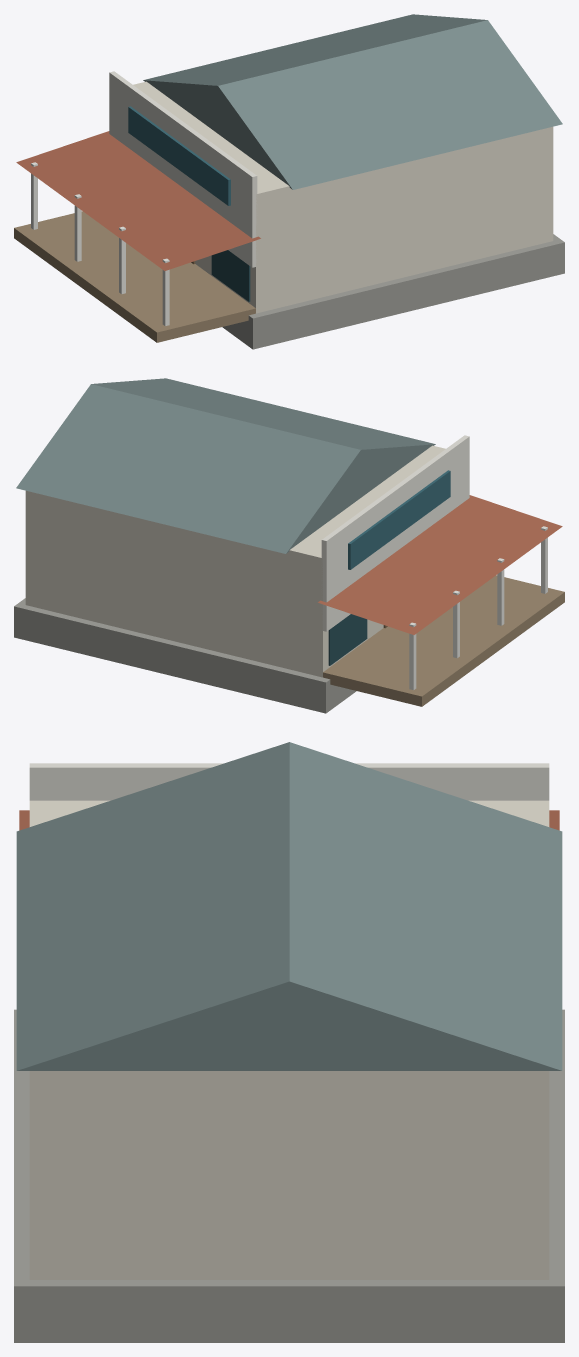
File: village-store.glb
3 renders of one model, top to bottom at view 1: azimuth 30°, elevation 25°; view 2: azimuth 150°, elevation 25°; view 3: azimuth 270°, elevation 25°, orthographic. The views are drawn at different scales.
Visible parts, largest first — view 1: village-store: Palm Bay roof, village-store: Palm Bay stucco, village-store: Palm Bay coral, village-store: Palm Bay deck, village-store: Palm Bay concrete, village-store: Palm Bay trim, village-store: Palm Bay sign, village-store: Palm Bay white, village-store: Palm Bay glass; view 2: village-store: Palm Bay roof, village-store: Palm Bay stucco, village-store: Palm Bay coral, village-store: Palm Bay deck, village-store: Palm Bay concrete, village-store: Palm Bay trim, village-store: Palm Bay sign, village-store: Palm Bay white, village-store: Palm Bay glass; view 3: village-store: Palm Bay roof, village-store: Palm Bay stucco, village-store: Palm Bay concrete, village-store: Palm Bay trim.
Boxes of the visible parts, box(x1,y1,x2,y2) form: village-store: Palm Bay roof: box(143, 14, 562, 189); village-store: Palm Bay stucco: box(133, 81, 553, 313); village-store: Palm Bay coral: box(16, 131, 260, 270); village-store: Palm Bay deck: box(14, 211, 255, 342); village-store: Palm Bay concrete: box(222, 234, 564, 349); village-store: Palm Bay trim: box(109, 71, 257, 267); village-store: Palm Bay sign: box(128, 106, 230, 205); village-store: Palm Bay white: box(31, 162, 169, 326); village-store: Palm Bay glass: box(211, 250, 250, 301); village-store: Palm Bay roof: box(16, 378, 435, 553); village-store: Palm Bay stucco: box(25, 445, 445, 677); village-store: Palm Bay coral: box(318, 495, 562, 634); village-store: Palm Bay deck: box(323, 575, 564, 706); village-store: Palm Bay concrete: box(14, 598, 356, 713); village-store: Palm Bay trim: box(321, 435, 469, 631); village-store: Palm Bay sign: box(348, 470, 450, 569); village-store: Palm Bay white: box(409, 526, 547, 690); village-store: Palm Bay glass: box(328, 614, 367, 665); village-store: Palm Bay roof: box(16, 742, 562, 1070); village-store: Palm Bay stucco: box(29, 800, 549, 1279); village-store: Palm Bay concrete: box(14, 1009, 564, 1342); village-store: Palm Bay trim: box(29, 763, 549, 800).
Size of the model in its own units: 16.3 by 7.65 by 10.6.
